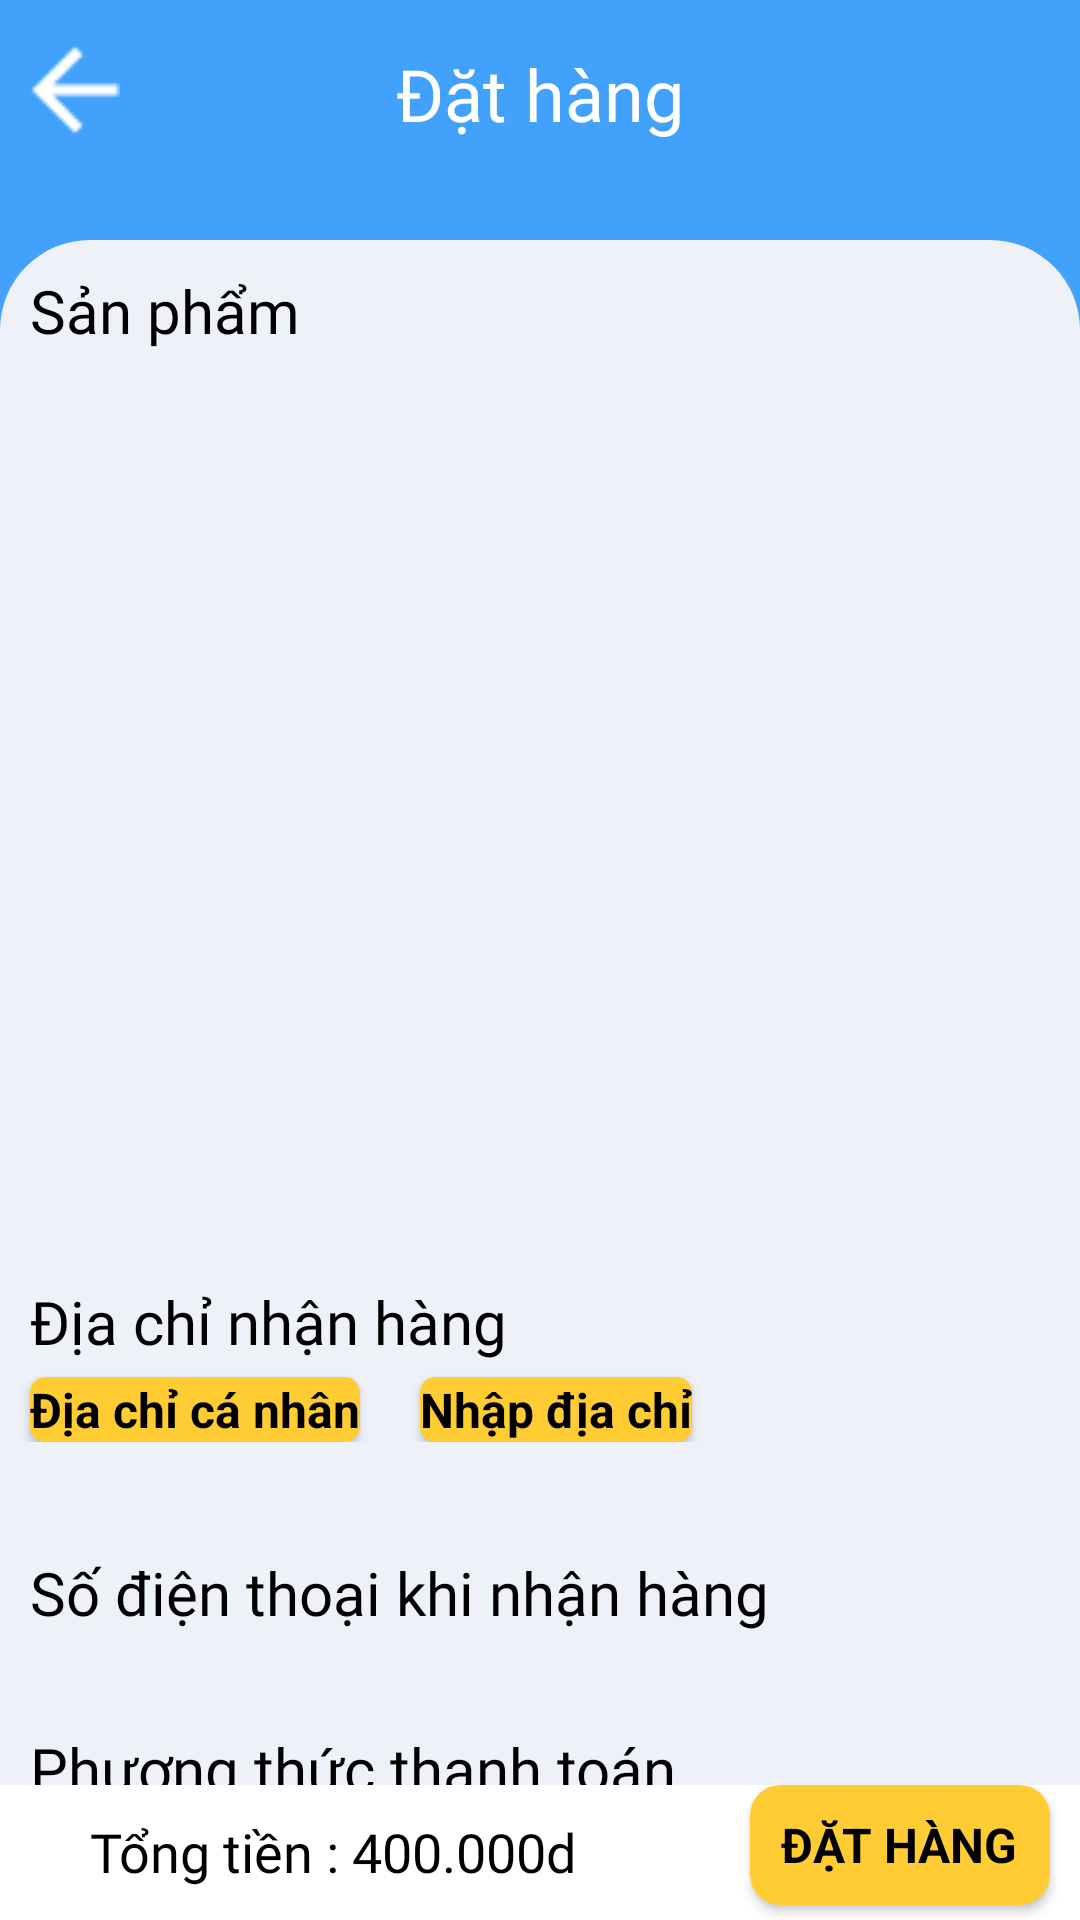

Where to tap for icons on this 1080px x 1920px app screen, as (x,y):
arrow back: (76,90)
